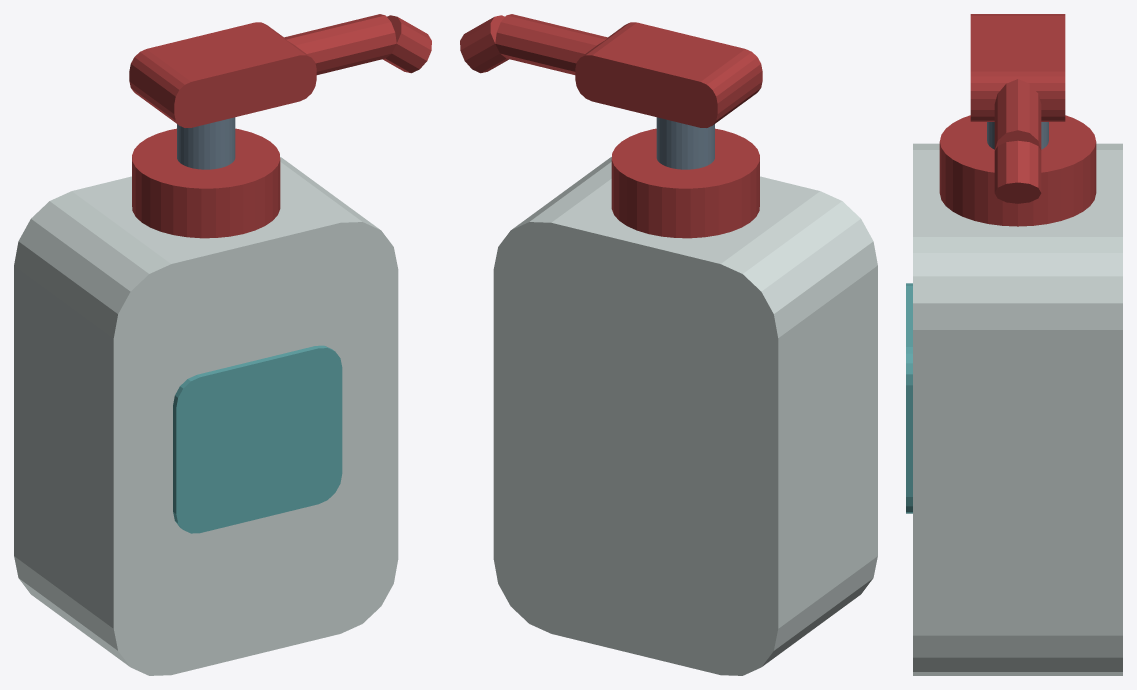
The model's file is pump.glb.
The picture shows the model from 3 angles, left to right: view 1: azimuth 30°, elevation 25°; view 2: azimuth 150°, elevation 25°; view 3: azimuth 270°, elevation 25°; orthographic projection. The views are drawn at different scales.
Parts seen in each view (by area): view 1: bottle body, label, pump head, neck, spout0, piston, spout1; view 2: bottle body, pump head, neck, spout0, piston, spout1; view 3: bottle body, neck, pump head, spout1, spout0, label, piston.
Boxes of the visible parts, left/top/right/bottom form: bottle body: left=14, top=157, right=398, bottom=675; label: left=173, top=345, right=342, bottom=533; pump head: left=129, top=22, right=316, bottom=127; neck: left=132, top=128, right=280, bottom=238; spout0: left=284, top=14, right=396, bottom=74; piston: left=177, top=117, right=235, bottom=169; spout1: left=383, top=15, right=431, bottom=73; bottle body: left=493, top=157, right=877, bottom=675; pump head: left=575, top=22, right=762, bottom=127; neck: left=611, top=128, right=759, bottom=238; spout0: left=495, top=14, right=607, bottom=74; piston: left=656, top=117, right=714, bottom=169; spout1: left=460, top=15, right=508, bottom=73; bottle body: left=913, top=143, right=1122, bottom=675; neck: left=939, top=115, right=1096, bottom=226; pump head: left=970, top=14, right=1065, bottom=121; spout1: left=994, top=140, right=1041, bottom=203; spout0: left=994, top=79, right=1041, bottom=150; label: left=906, top=283, right=912, bottom=513; piston: left=987, top=122, right=1048, bottom=149.
Bounding box in the file's own units: 1.07 × 1.58 × 0.527.
